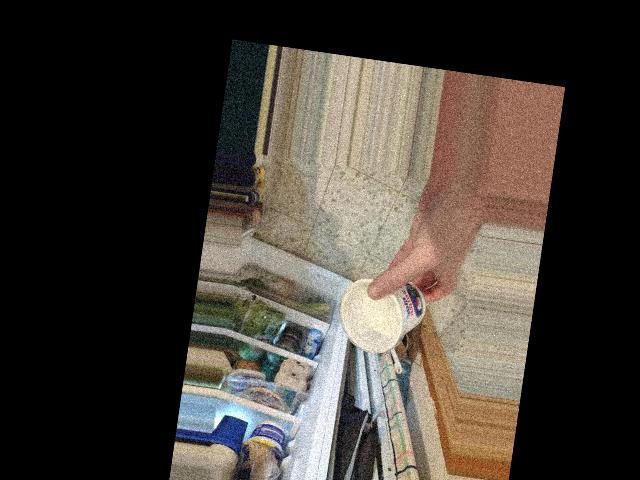cotage: (343, 268, 433, 358)
